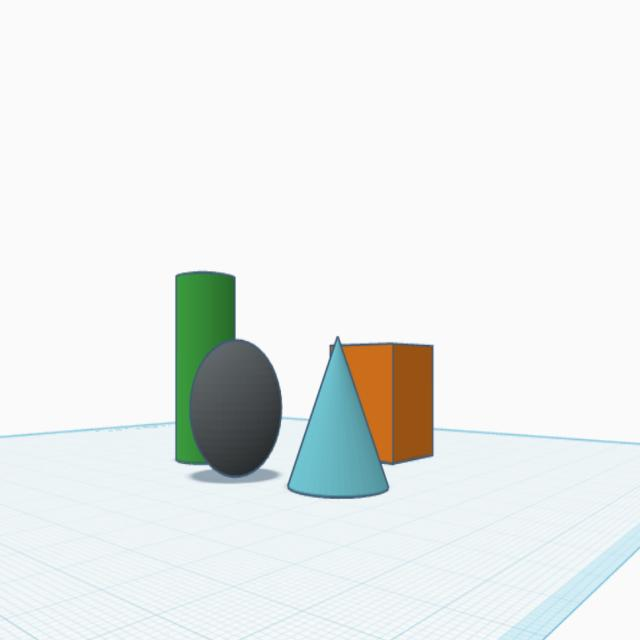cone: (288, 329, 392, 506)
sphere: (186, 336, 284, 478)
